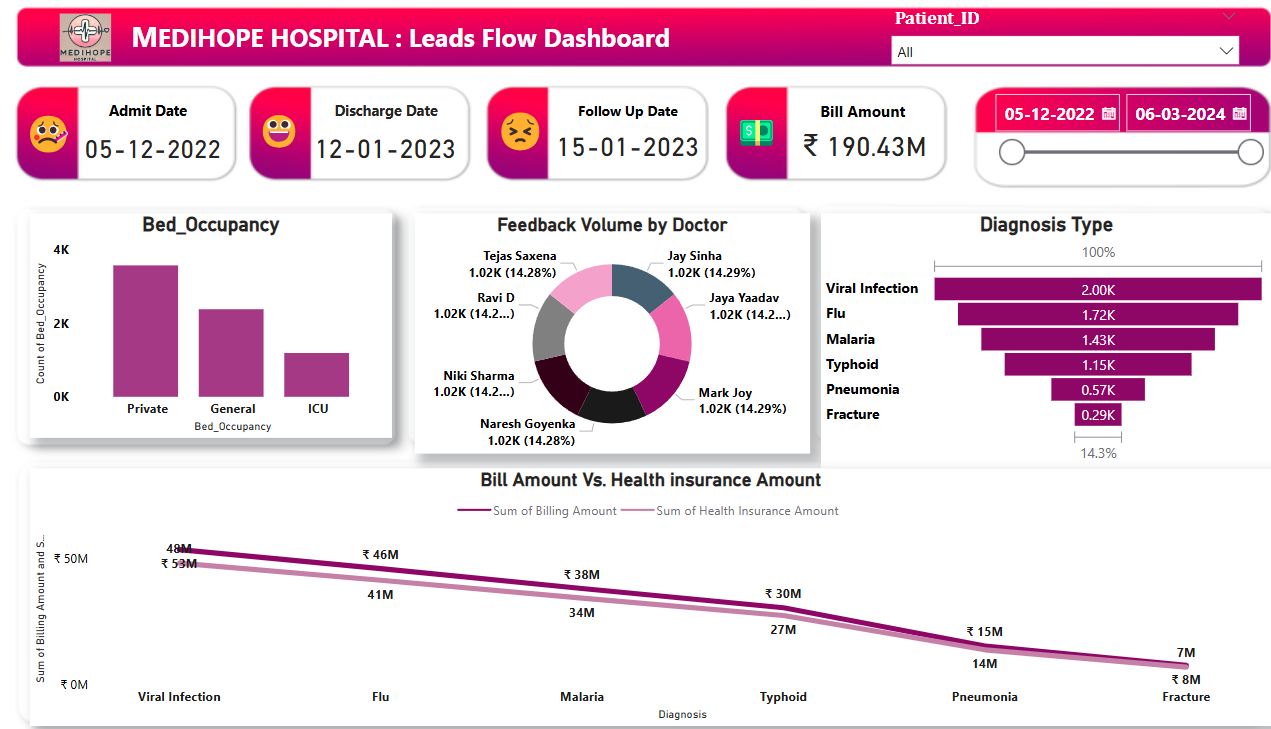

What the dashboard file says about the page in this screenshot:
{"tool":"powerbi","page":{"name":"Page 1","canvas":[1280,720],"ordinal":0},"visuals":[{"type":"card","fields":{"Values":["Sheet1.Discharge_Date"]},"box":[308.8,130.3,162.9,41],"z":0},{"type":"card","fields":{"Values":["Sheet1.Admit_Date"]},"box":[90.5,126.7,150.8,48.3],"z":1000},{"type":"card","fields":{"Values":["Sheet1.Followup Date"]},"box":[548.9,125.5,150.8,45.8],"z":2000},{"type":"card","fields":{"Values":["Sheet1.Billing Amount"]},"box":[784.2,121.9,137.5,51.9],"z":3000},{"type":"slicer","fields":{"Values":["Sheet1.Admit_Date"]},"box":[966.4,88.1,279.9,103.8],"z":4000},{"type":"columnChart","title":"Bed_Occupancy","fields":{"Category":["Sheet1.Bed_Occupancy"],"Y":["Sheet1.Bed_Occupancy"]},"box":[47.1,213.5,349.9,217.2],"z":5000},{"type":"donutChart","title":"Feedback Volume by Doctor","fields":{"Category":["Sheet1.Doctor"],"Y":["Sheet1.Doctor"]},"box":[418.6,213.5,381.2,231.6],"z":6000},{"type":"funnel","title":" Diagnosis Type","fields":{"Category":["Sheet1.Diagnosis"],"Y":["Sheet1.Diagnosis"]},"box":[810.7,213.5,435.5,246.1],"z":7000},{"type":"slicer","fields":{"Values":["Sheet1.Patient_ID"]},"box":[868.6,9.7,355.9,62.7],"z":8000},{"type":"textbox","box":[100.1,100.1,121.9,30.2],"z":9000},{"type":"textbox","box":[322.1,100.1,137.5,39.8],"z":10000},{"type":"textbox","box":[799.9,100.1,102.5,30.2],"z":11000},{"type":"textbox","box":[561,100.1,126.7,30.2],"z":12000},{"type":"textbox","box":[35,105,65.1,71.2],"z":13000},{"type":"textbox","box":[489.8,102.5,59.1,71.2],"z":14000},{"type":"textbox","box":[721.5,105,54.3,71.2],"z":15000},{"type":"textbox","box":[260.6,106.2,97.7,71.2],"z":16000},{"type":"image","box":[71.2,0,59.1,88.1],"z":17000},{"type":"textbox","box":[139.9,19.3,592.4,50.7],"z":18000},{"type":"lineChart","title":"Bill Amount Vs. Health insurance Amount","fields":{"Category":["Sheet1.Diagnosis"],"Y":["Sheet1.Billing Amount","Sheet1.Health Insurance Amount"]},"box":[47.1,459.7,1199.2,248.5],"z":19000}]}

Visuals, with their boxes in screenshot pixels (x1, y1, x2, y2), scaled from the page's 1280x720 canvas onto the 1271x729 screenshot:
card - Sheet1.Discharge_Date: bbox=(307, 132, 468, 173)
card - Sheet1.Admit_Date: bbox=(90, 128, 240, 177)
card - Sheet1.Followup Date: bbox=(545, 127, 695, 173)
card - Sheet1.Billing Amount: bbox=(779, 123, 915, 176)
slicer - Sheet1.Admit_Date: bbox=(960, 89, 1238, 194)
"Bed_Occupancy" columnChart: bbox=(47, 216, 394, 436)
"Feedback Volume by Doctor" donutChart: bbox=(416, 216, 794, 451)
" Diagnosis Type" funnel: bbox=(805, 216, 1237, 465)
slicer - Sheet1.Patient_ID: bbox=(862, 10, 1216, 73)
textbox: bbox=(99, 101, 220, 132)
textbox: bbox=(320, 101, 456, 142)
textbox: bbox=(794, 101, 896, 132)
textbox: bbox=(557, 101, 683, 132)
textbox: bbox=(35, 106, 99, 178)
textbox: bbox=(486, 104, 545, 176)
textbox: bbox=(716, 106, 770, 178)
textbox: bbox=(259, 108, 356, 180)
image: bbox=(71, 0, 129, 89)
textbox: bbox=(139, 20, 727, 71)
"Bill Amount Vs. Health insurance Amount" lineChart: bbox=(47, 465, 1238, 717)
